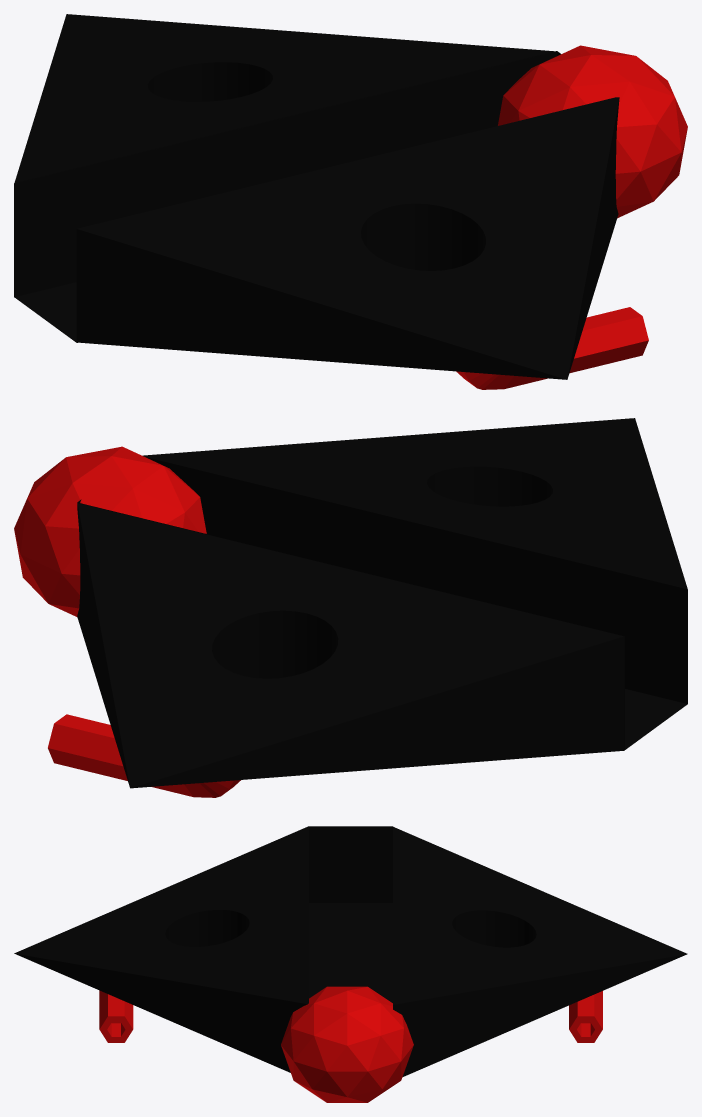
The model's file is dron.fbx.
3 renders of one model, top to bottom at view 1: azimuth 30°, elevation 25°; view 2: azimuth 150°, elevation 25°; view 3: azimuth 270°, elevation 25°, orthographic. The views are drawn at different scales.
Parts seen in each view (by area): view 1: Ala derecha.001; view 2: Ala derecha.001; view 3: Ala derecha.001.
Part boxes in pixels (left/top/right/bottom): Ala derecha.001: left=14, top=14, right=687, bottom=389; Ala derecha.001: left=14, top=418, right=687, bottom=797; Ala derecha.001: left=14, top=826, right=687, bottom=1102.
Size of the model in its own units: 575 by 142 by 799.
